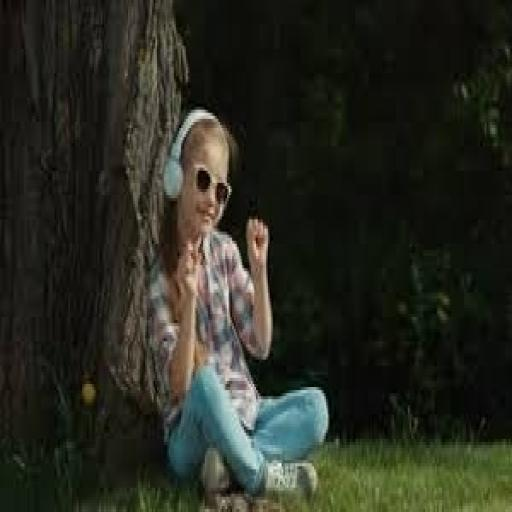listening_to_music: (143, 104, 333, 506)
